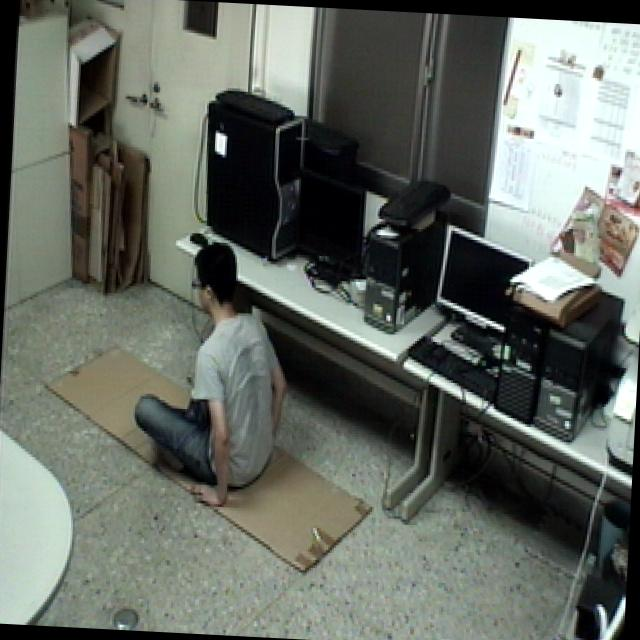sit: (125, 236, 302, 512)
